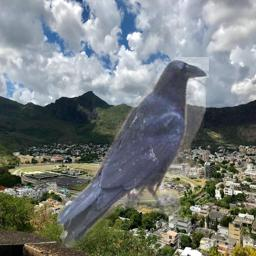Crow: (57, 57, 209, 248)
